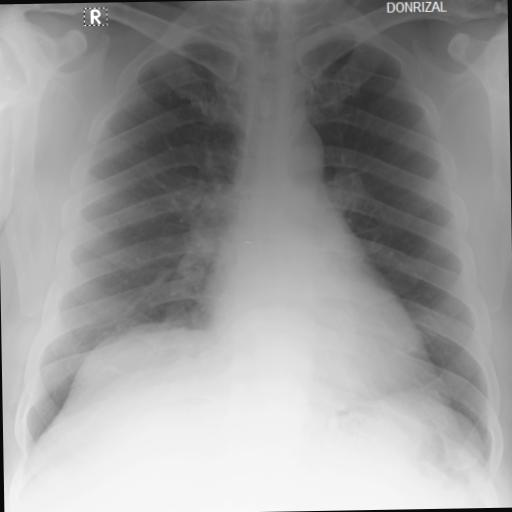kardiomegali: (0, 0, 505, 481)
